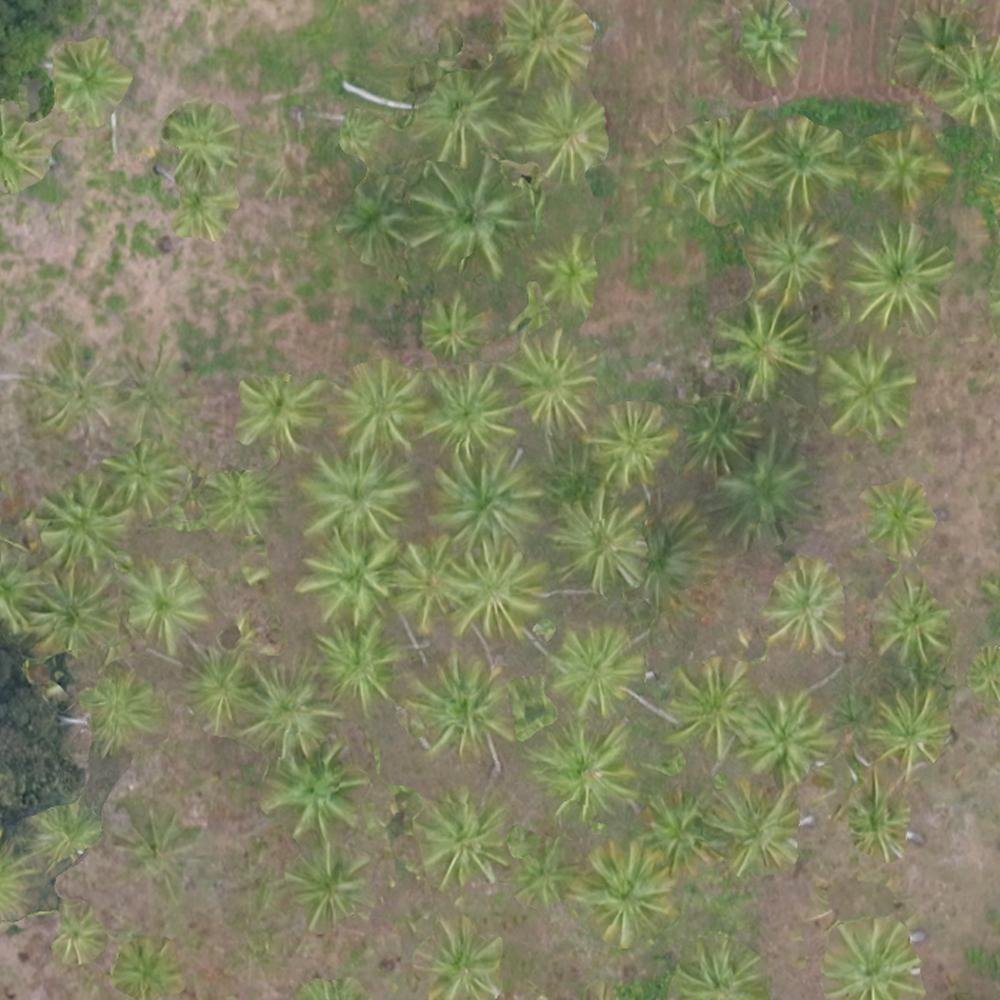Palm: (407, 165, 519, 279), (808, 344, 921, 442), (408, 659, 512, 765), (850, 216, 946, 330), (714, 441, 818, 545), (302, 446, 417, 539), (553, 486, 653, 590), (577, 842, 676, 943), (440, 450, 545, 545), (758, 114, 858, 212), (509, 328, 600, 432), (416, 365, 517, 457), (516, 86, 611, 183), (533, 724, 632, 817), (33, 476, 131, 569), (443, 551, 544, 640), (550, 626, 646, 718), (668, 660, 757, 759), (708, 784, 801, 877), (675, 115, 767, 209), (412, 792, 504, 886), (716, 300, 812, 389), (327, 358, 415, 455), (419, 69, 511, 161), (296, 540, 399, 622), (818, 919, 921, 1000), (261, 758, 365, 838), (312, 621, 408, 706), (496, 2, 594, 85), (743, 694, 834, 783), (284, 842, 372, 934), (748, 214, 843, 299), (31, 347, 119, 438), (244, 668, 335, 756), (177, 649, 260, 744), (27, 568, 117, 655), (233, 373, 325, 458), (766, 564, 857, 649), (117, 565, 205, 651), (921, 33, 1000, 127), (587, 402, 671, 485), (672, 394, 755, 478), (875, 575, 958, 658), (640, 789, 719, 875), (865, 124, 946, 206), (100, 440, 183, 519), (861, 694, 946, 771), (860, 480, 938, 561), (47, 43, 126, 122), (197, 463, 276, 541), (730, 2, 805, 84), (78, 675, 162, 747), (416, 291, 491, 362), (168, 102, 237, 179), (391, 543, 454, 625), (845, 786, 913, 859), (164, 178, 237, 242), (508, 839, 574, 907), (537, 239, 600, 310), (46, 902, 103, 963)
